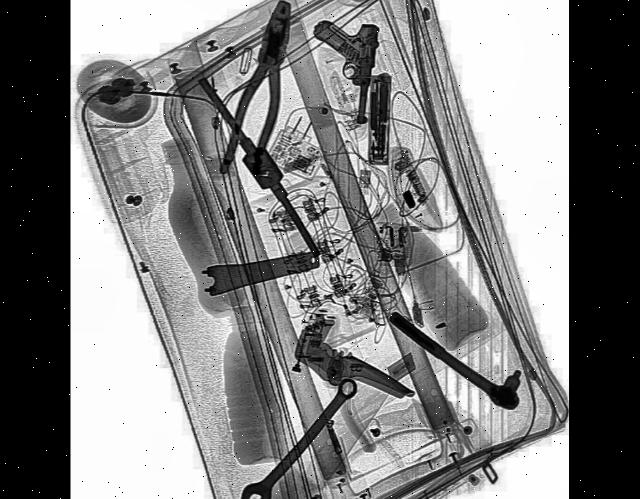Gun: (302, 8, 380, 125)
Pliers: (217, 0, 305, 191)
Wrench: (237, 365, 360, 499)
